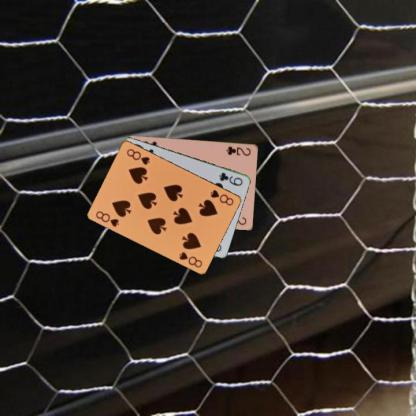2c: (224, 143, 252, 157)
8s: (208, 186, 235, 206), (93, 208, 120, 228)
9c: (216, 170, 244, 187)
